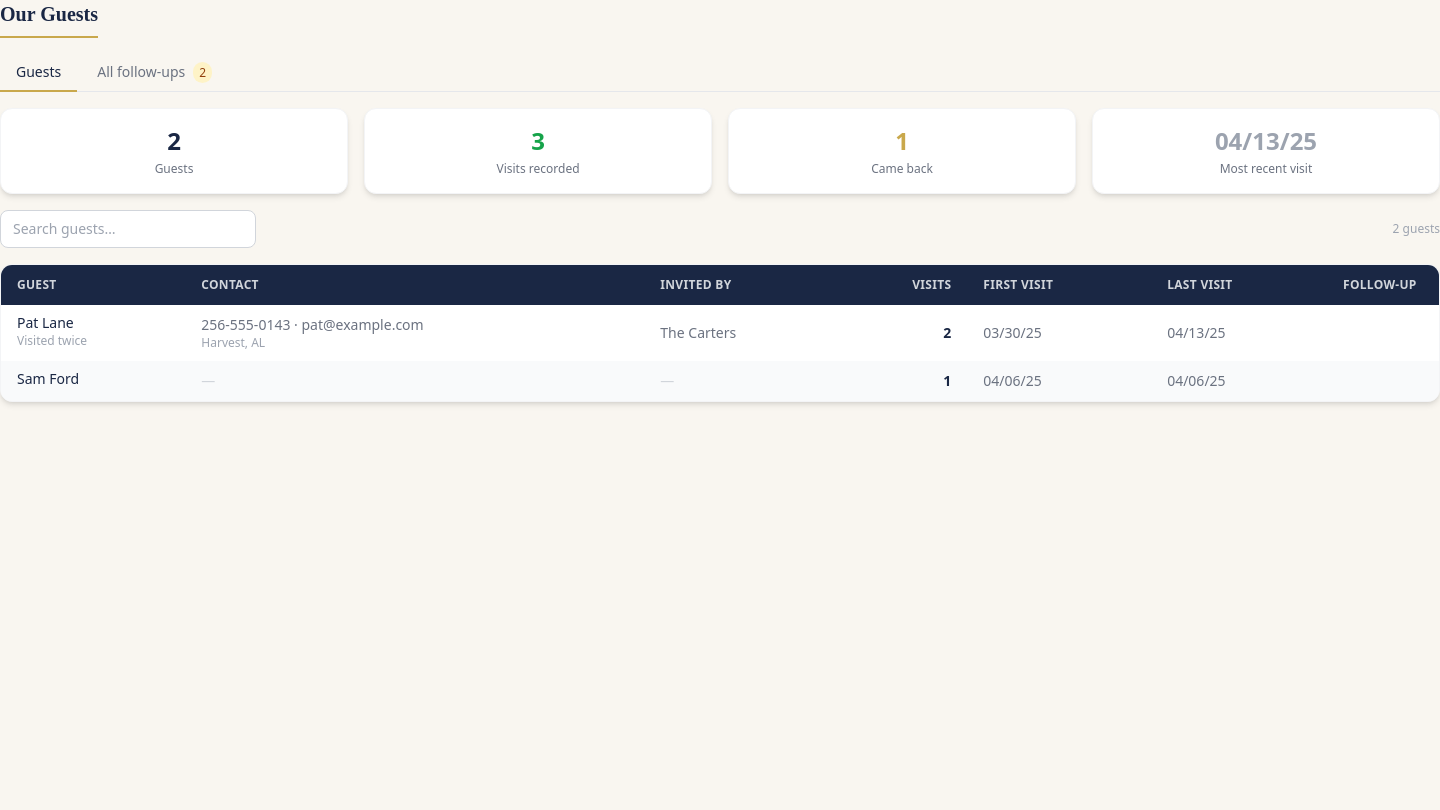
Test: VisitorTracker › the details close again
This screenshot has width=1440, height=810.
Click the button "Pat Lane" at (45, 323), box [17,313,74,333]
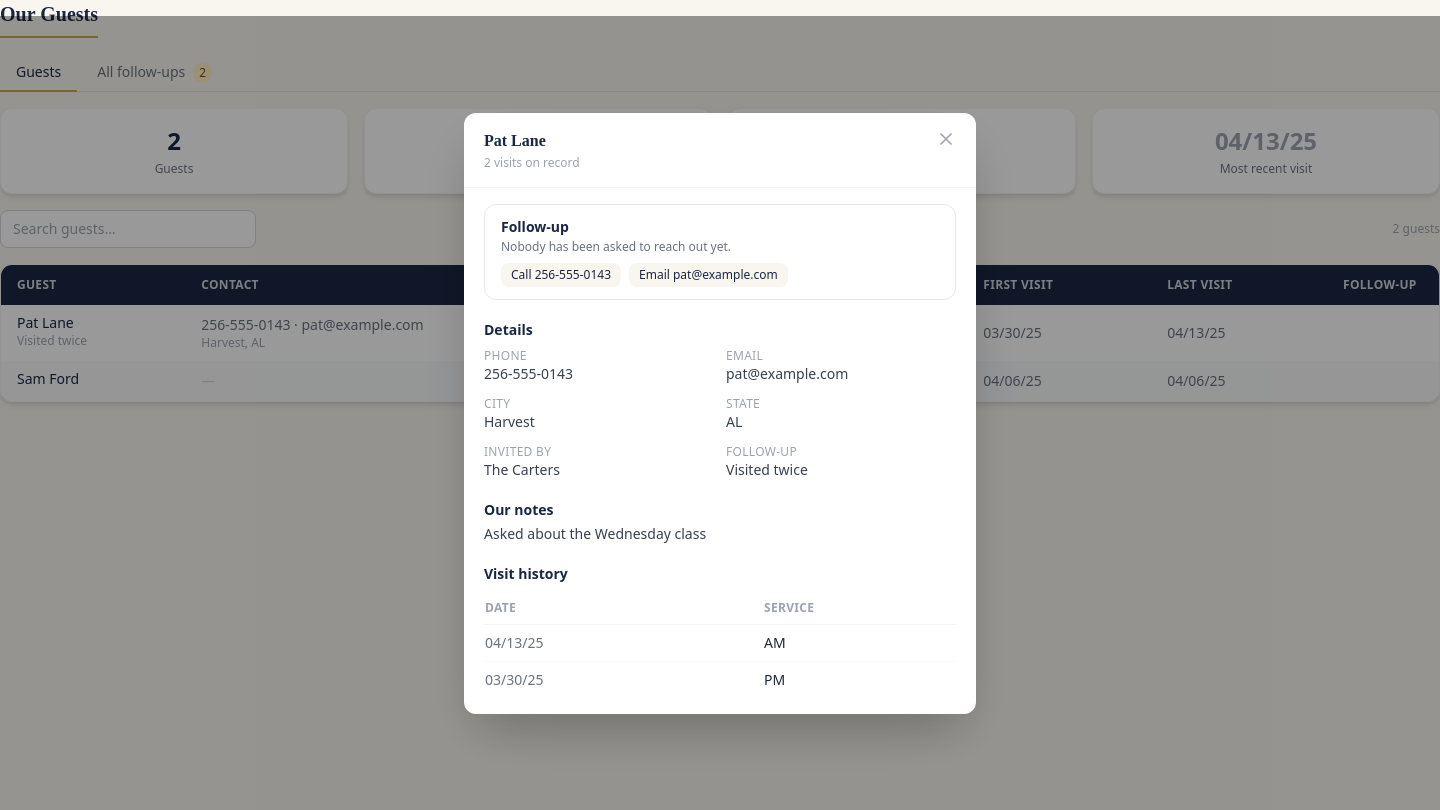
Click the button named "Close" at (946, 138), box [936,128,956,148]
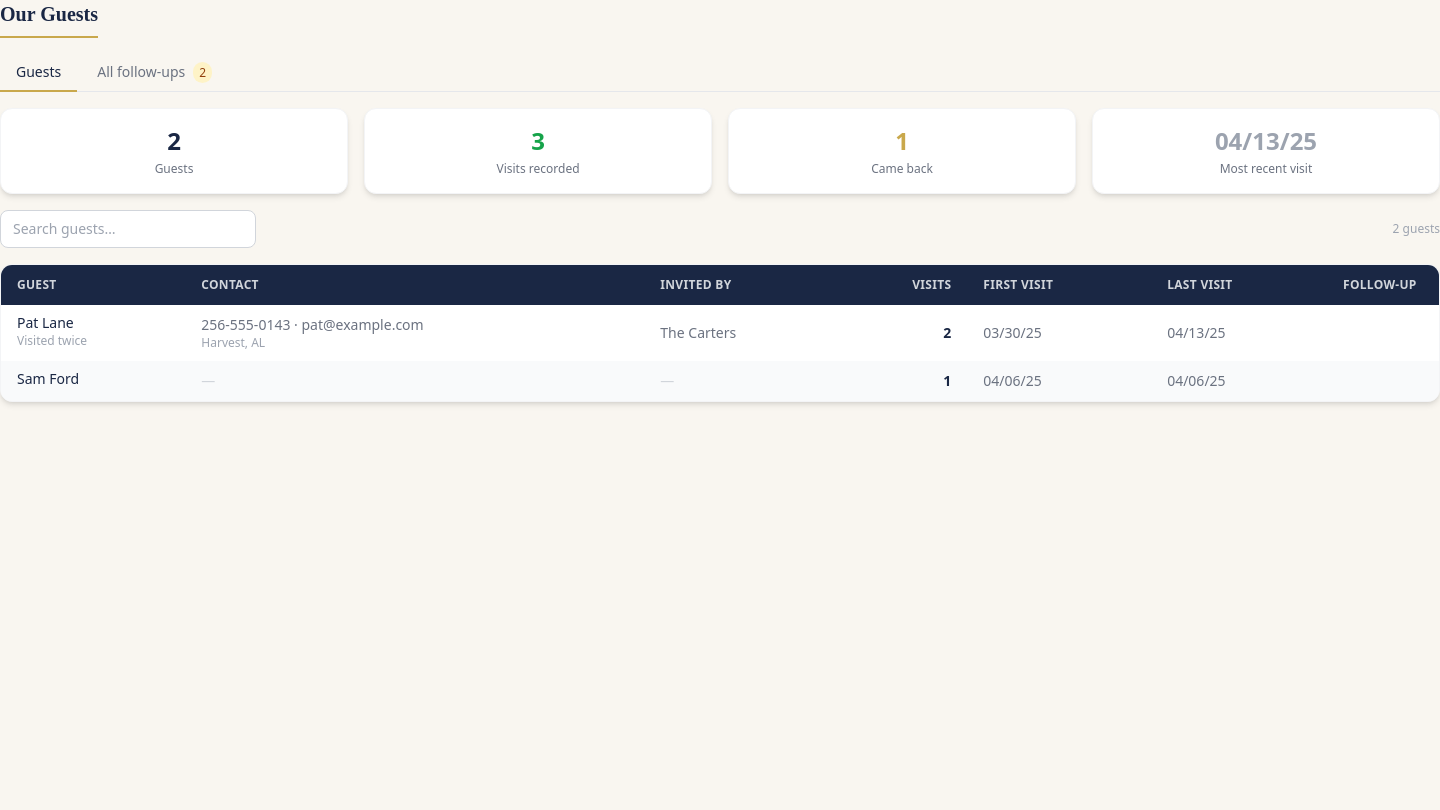
Now the dialog is gone
